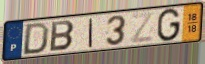3: (104, 14, 127, 47)
B: (49, 20, 76, 53)
D: (21, 21, 51, 56)
G: (156, 8, 182, 43)
I: (87, 18, 94, 49)
Z: (130, 11, 155, 45)
